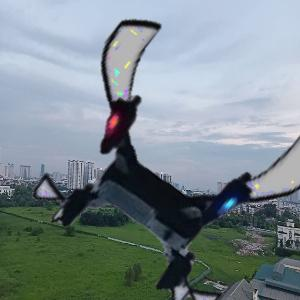drone: (43, 36, 299, 292)
